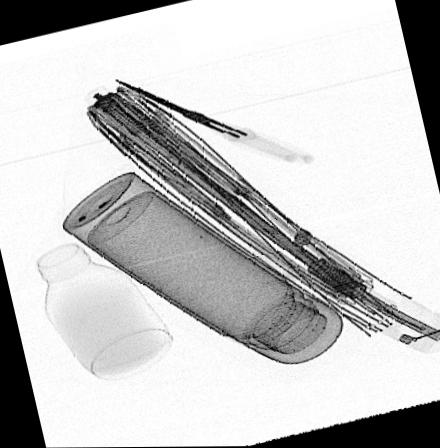Scissors: (114, 77, 316, 167)
